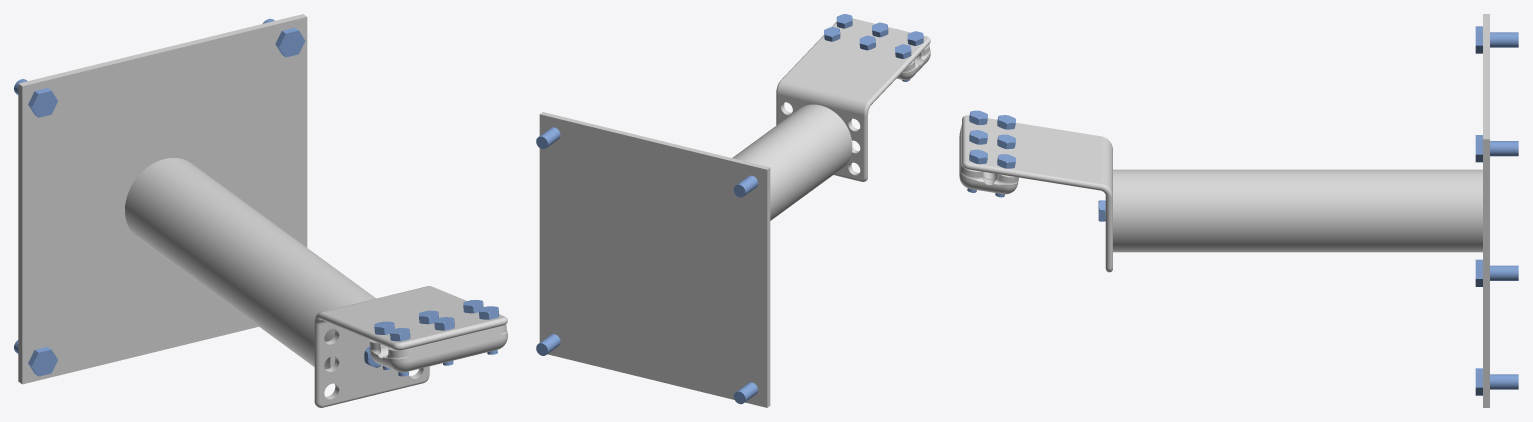
The model's file is P_Glava_Rigide.glb.
3 renders of one model, left to right at view 1: azimuth 30°, elevation 25°; view 2: azimuth 150°, elevation 25°; view 3: azimuth 270°, elevation 25°, orthographic. The views are drawn at different scales.
Visible parts, largest first — view 1: tube, Platine_NewPro, Matrice_NewPro, boulon (×3); view 2: tube, Platine_NewPro, grande_rondelle, Matrice_NewPro; view 3: tube, Platine_NewPro, boulon (×4), Matrice_NewPro, grande_rondelle.
Part boxes in pixels (left/top/right/bottom): tube: left=18, top=14, right=375, bottom=384; Platine_NewPro: left=314, top=286, right=507, bottom=407; Matrice_NewPro: left=369, top=324, right=507, bottom=372; boulon (×3): left=14, top=18, right=305, bottom=376; tube: left=539, top=109, right=846, bottom=407; Platine_NewPro: left=776, top=18, right=930, bottom=181; grande_rondelle: left=794, top=104, right=852, bottom=170; Matrice_NewPro: left=897, top=44, right=930, bottom=80; tube: left=1127, top=14, right=1489, bottom=407; Platine_NewPro: left=962, top=115, right=1112, bottom=272; boulon (×4): left=1475, top=26, right=1518, bottom=395; Matrice_NewPro: left=959, top=124, right=1018, bottom=194; grande_rondelle: left=1113, top=169, right=1126, bottom=252.
Size of the model in its own units: 0.25 by 0.25 by 0.4714.
